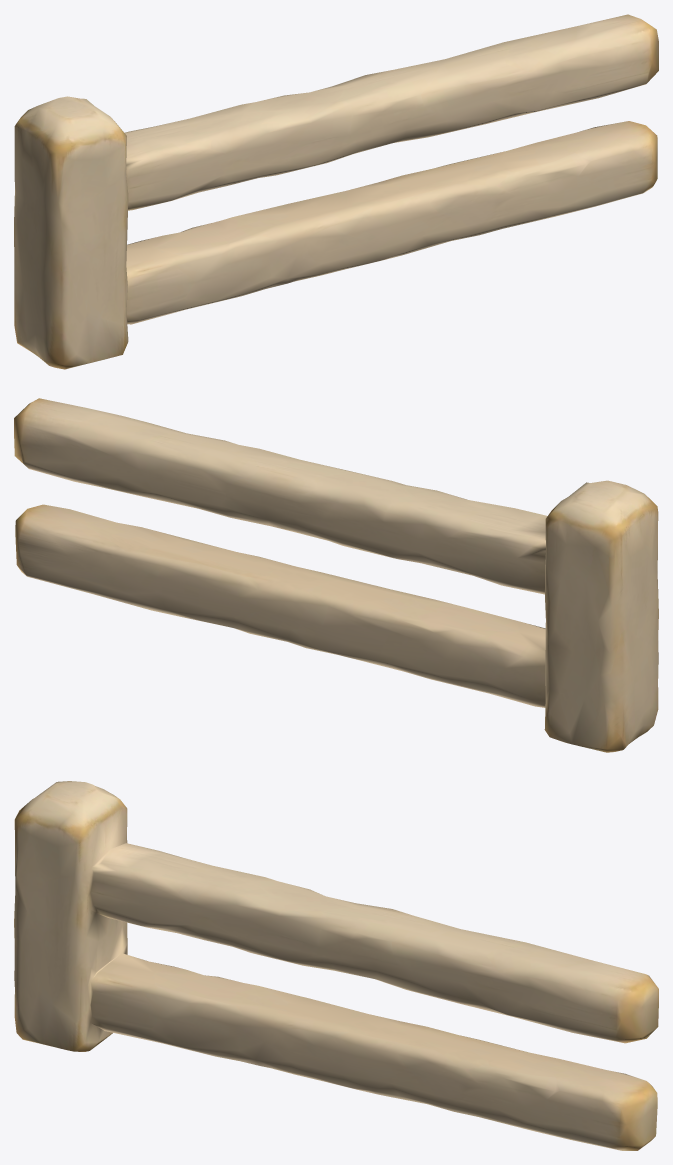
Rendered from fence.glb.
3 views of the same model, one above another, from view 1: azimuth 30°, elevation 25°; view 2: azimuth 150°, elevation 25°; view 3: azimuth 330°, elevation 25° (orthographic).
Visible parts, largest first — view 1: tripo_node_55770d52-07b5-4ddc-9917-7e2108ed7f3b; view 2: tripo_node_55770d52-07b5-4ddc-9917-7e2108ed7f3b; view 3: tripo_node_55770d52-07b5-4ddc-9917-7e2108ed7f3b.
Part boxes in pixels (<box>): tripo_node_55770d52-07b5-4ddc-9917-7e2108ed7f3b: <box>14,14,658,369</box>; tripo_node_55770d52-07b5-4ddc-9917-7e2108ed7f3b: <box>14,398,658,752</box>; tripo_node_55770d52-07b5-4ddc-9917-7e2108ed7f3b: <box>14,781,658,1150</box>.
Bounding box in the file's own units: 2.14 × 0.8 × 0.292.
1 material, 1 textured.
